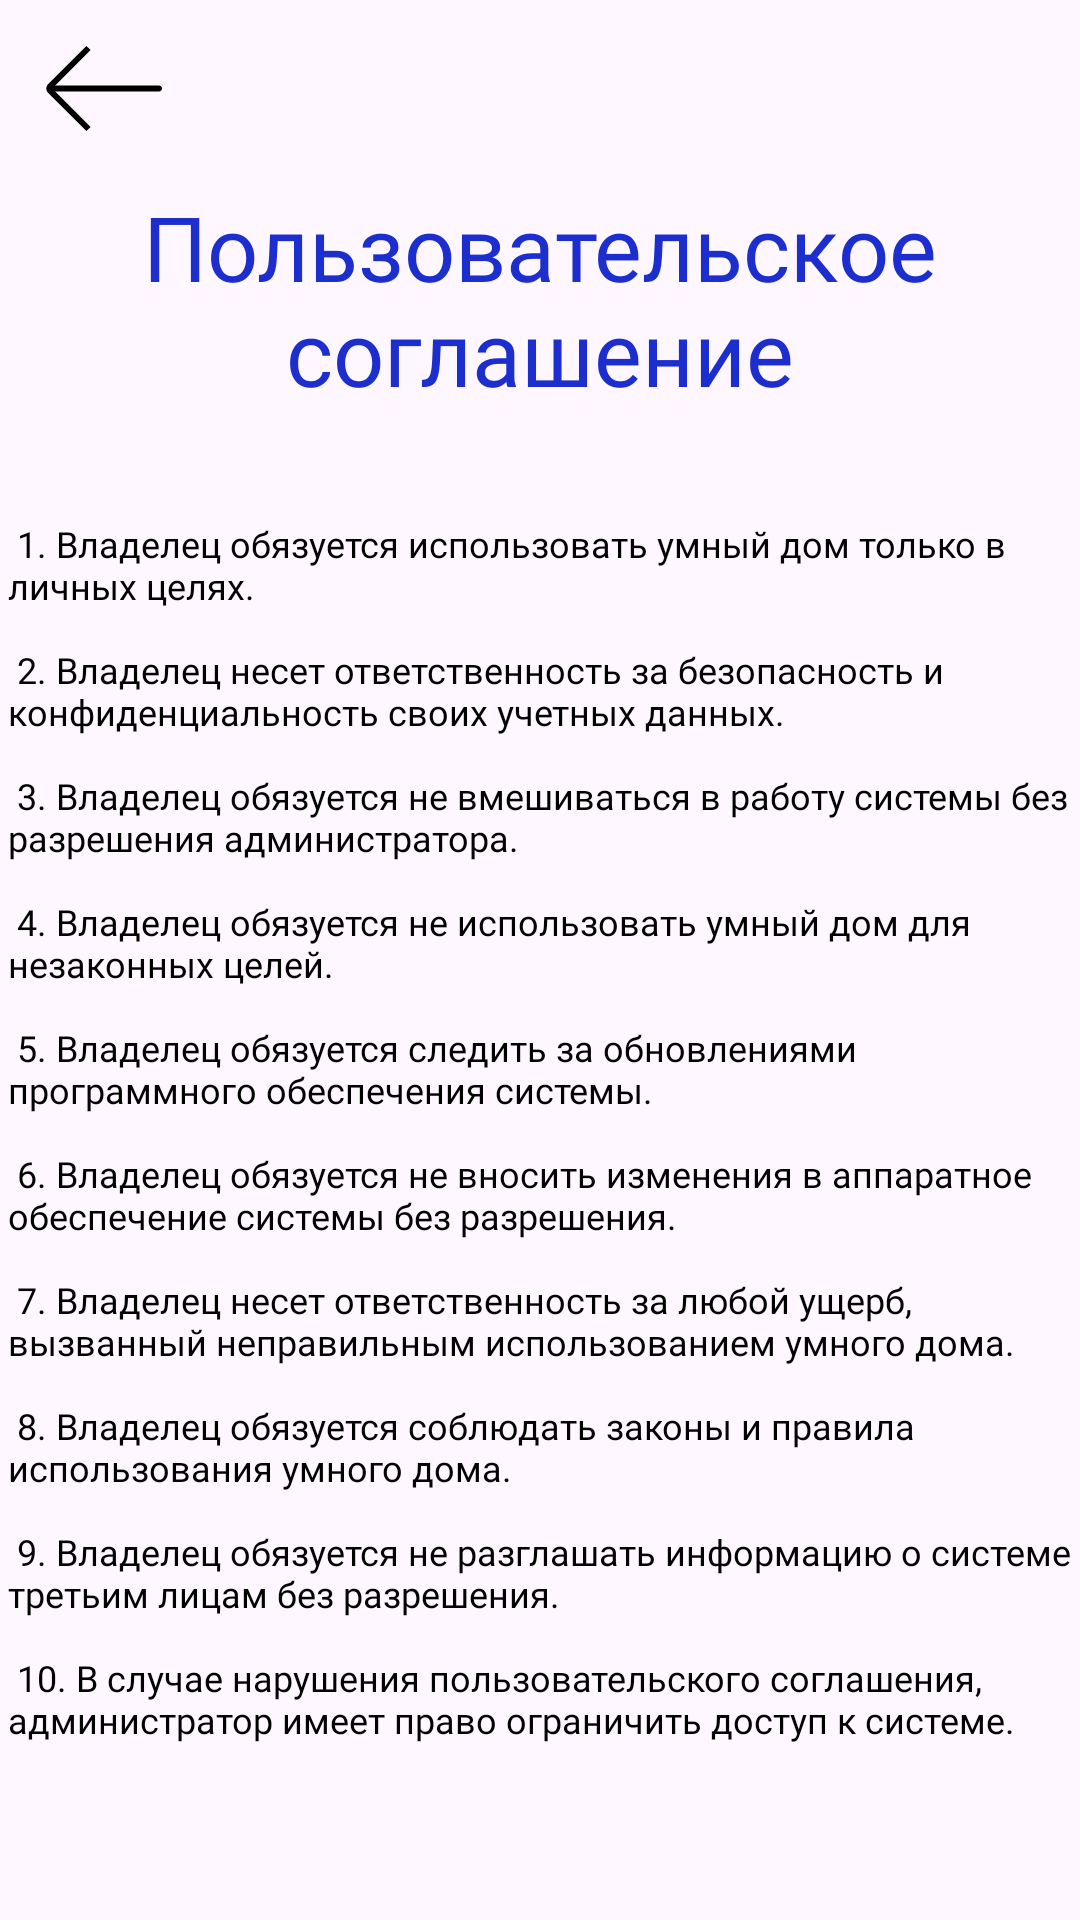

Named icons in this screenshot (1080w x 1920h) and their centers, point (x, y):
backbutton: point (104, 88)
